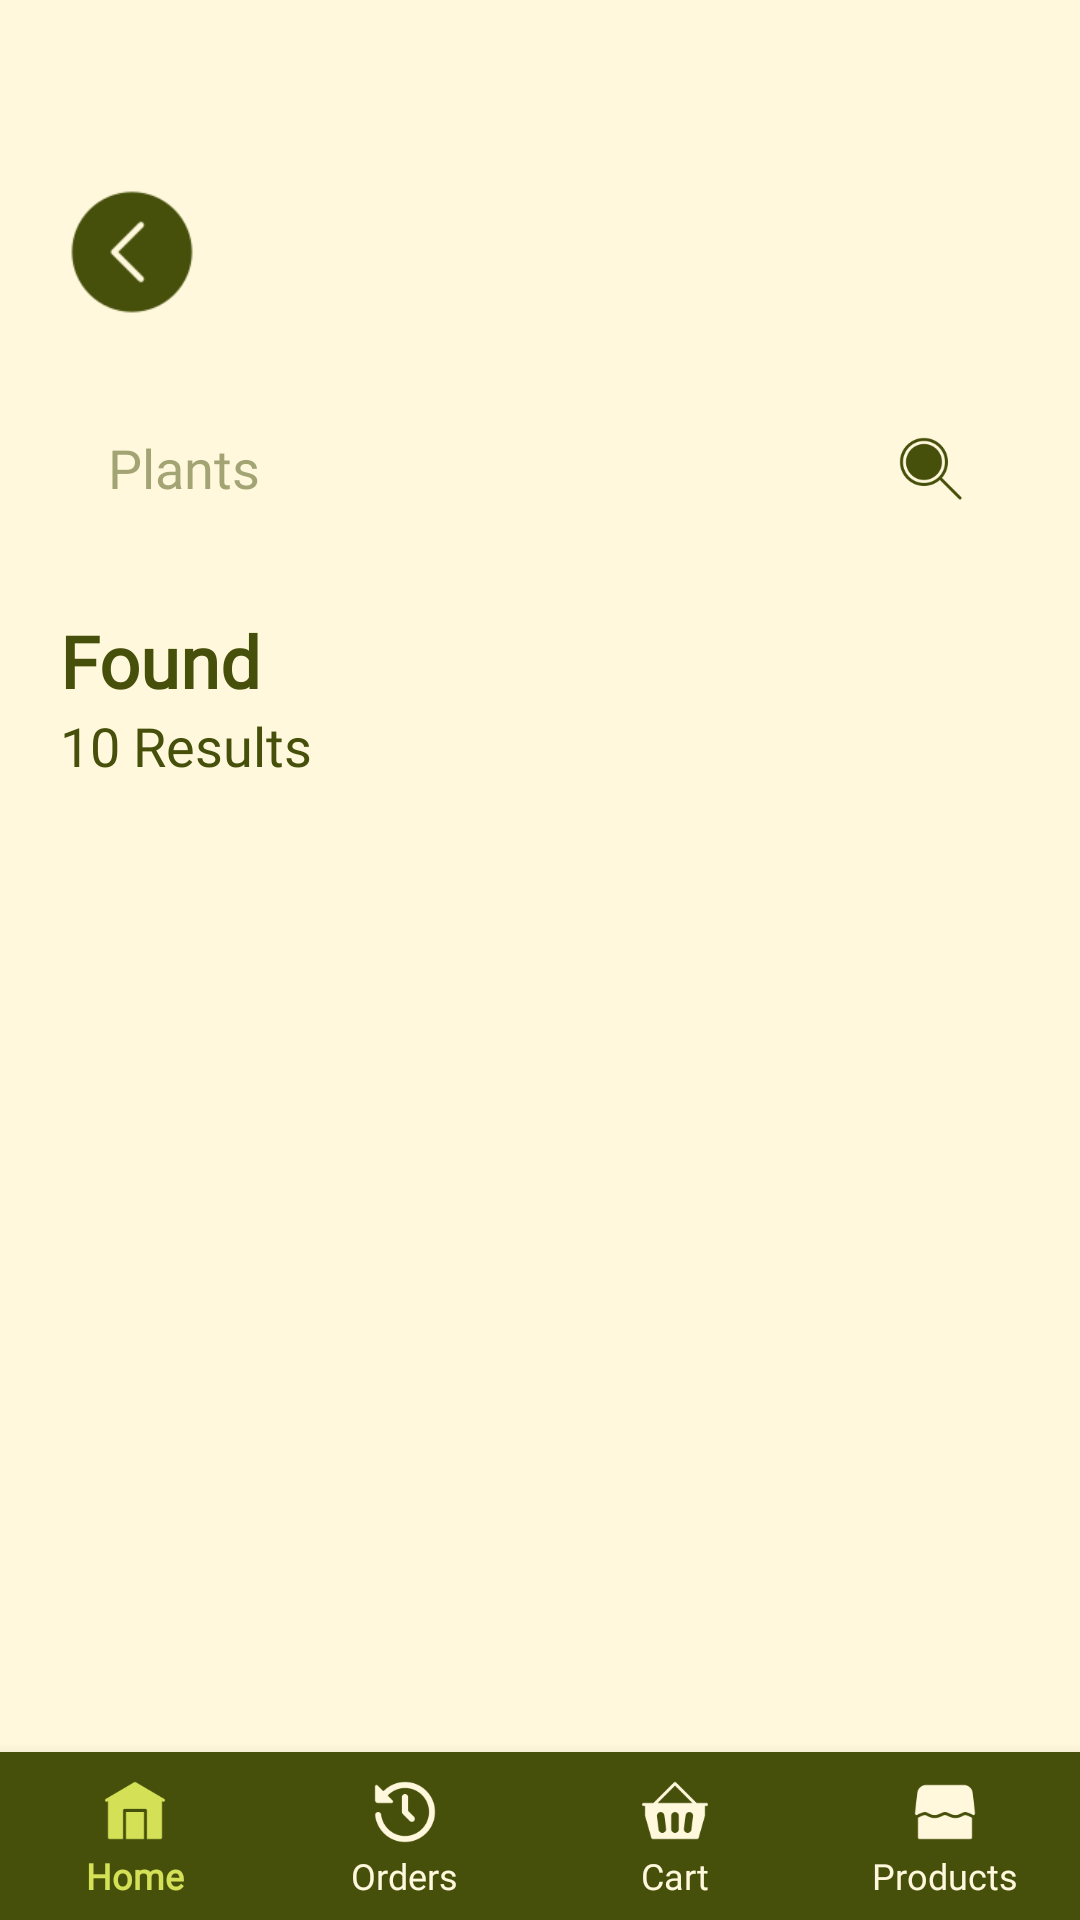

Where icons sit on this 1080 × 1920 app screen, as {"x1": x1, "y1": y1, "x2": x2, "y2": y2}:
Back: {"x1": 71, "y1": 191, "x2": 193, "y2": 313}
search scaled: {"x1": 900, "y1": 438, "x2": 962, "y2": 500}
